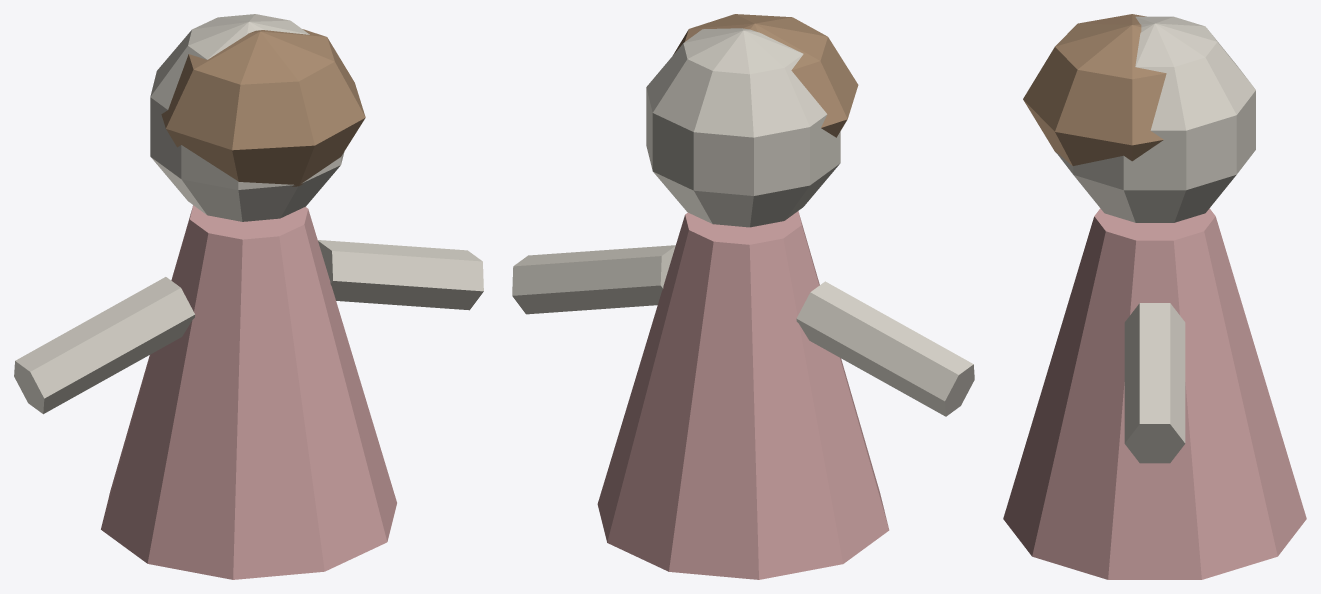
Rendered from kids_boneca.glb.
The picture shows the model from 3 angles, left to right: view 1: azimuth 30°, elevation 25°; view 2: azimuth 150°, elevation 25°; view 3: azimuth 270°, elevation 25°; orthographic projection.
Parts seen in each view (by area): view 1: KIDS_BONECA_v01; view 2: KIDS_BONECA_v01; view 3: KIDS_BONECA_v01.
Part boxes in pixels (left/top/right/bottom): KIDS_BONECA_v01: left=14, top=14, right=483, bottom=579; KIDS_BONECA_v01: left=512, top=14, right=974, bottom=579; KIDS_BONECA_v01: left=1003, top=14, right=1306, bottom=579.
Size of the model in its own units: 0.3449 by 0.36 by 0.2.
